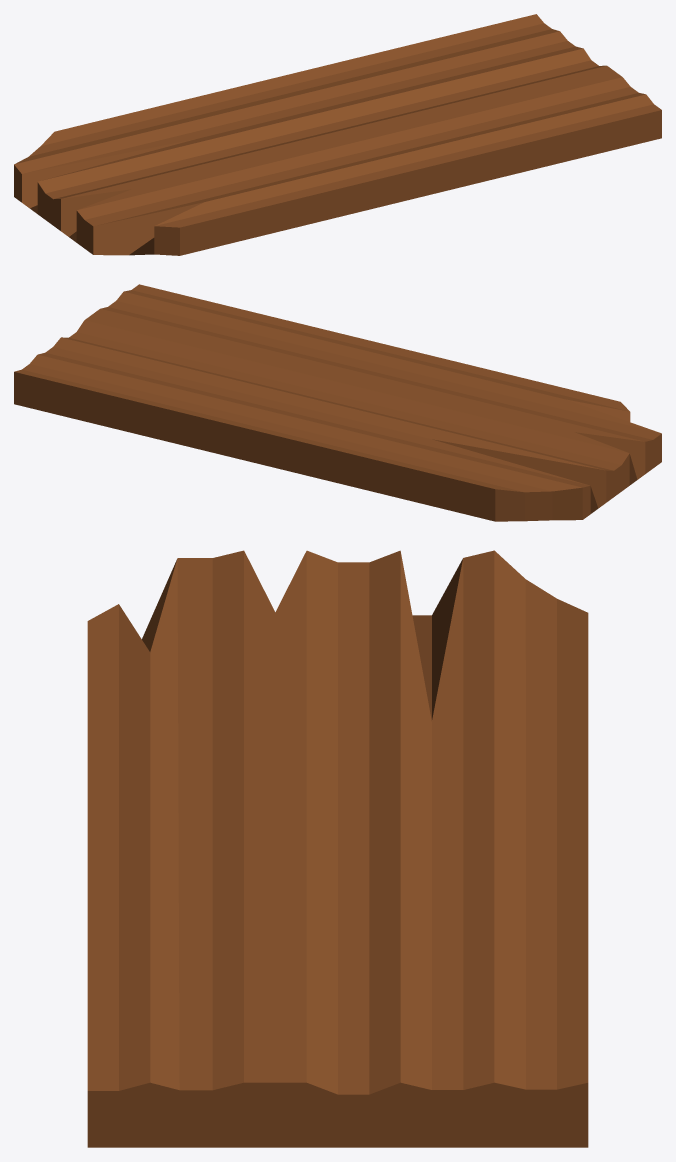
Rendered from platform_half.fbx.
3 renders of one model, top to bottom at view 1: azimuth 30°, elevation 25°; view 2: azimuth 150°, elevation 25°; view 3: azimuth 270°, elevation 25°, orthographic. The views are drawn at different scales.
Visible parts, largest first — view 1: Cube.002; view 2: Cube.002; view 3: Cube.002.
Part boxes in pixels (left/top/right/bottom): Cube.002: left=14, top=14, right=661, bottom=255; Cube.002: left=14, top=284, right=661, bottom=521; Cube.002: left=87, top=550, right=588, bottom=1147.
Size of the model in its own units: 494 by 28.06 by 196.
